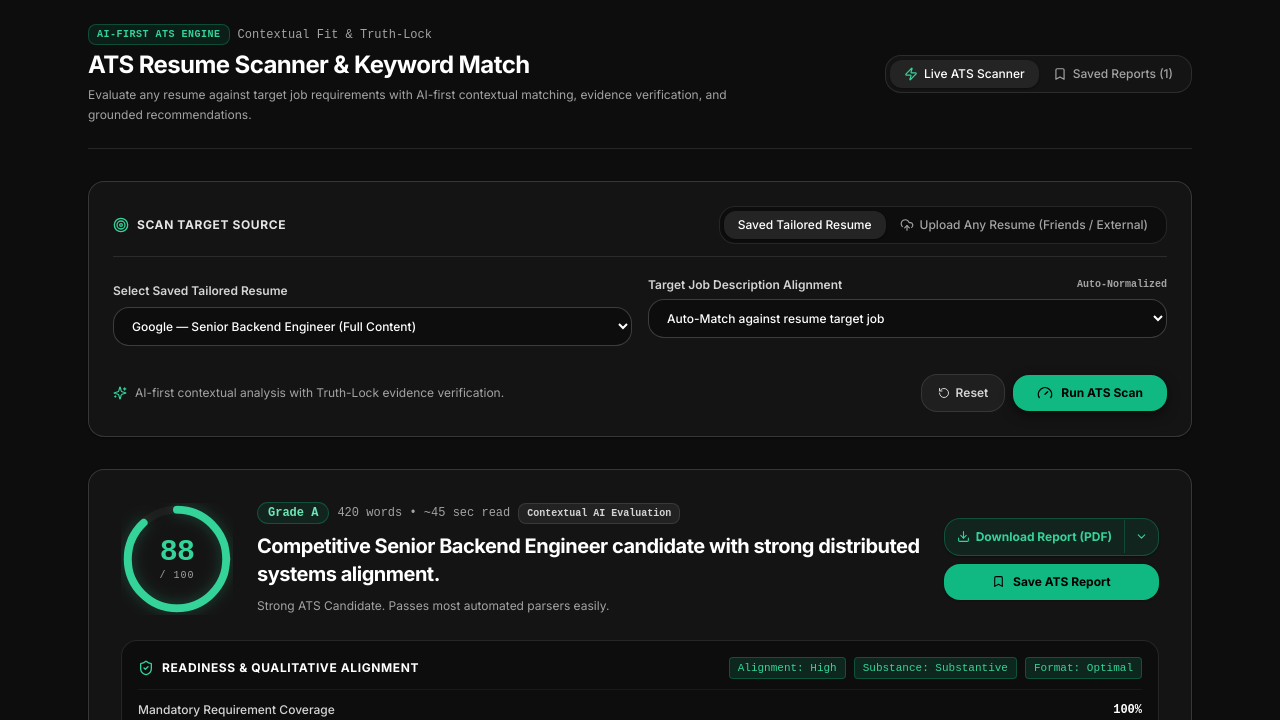
Scenario: ScannerPage ATS Evaluation Suite › executes ATS scan, displays hero score, and handles save report button
expect the text "88" is shown: met, box [160, 534, 194, 570]
expect the text "Grade A" is shown: met, box [257, 502, 329, 524]
Click the button "Save ATS Report": {"x": 1051, "y": 582} [944, 564, 1159, 600]
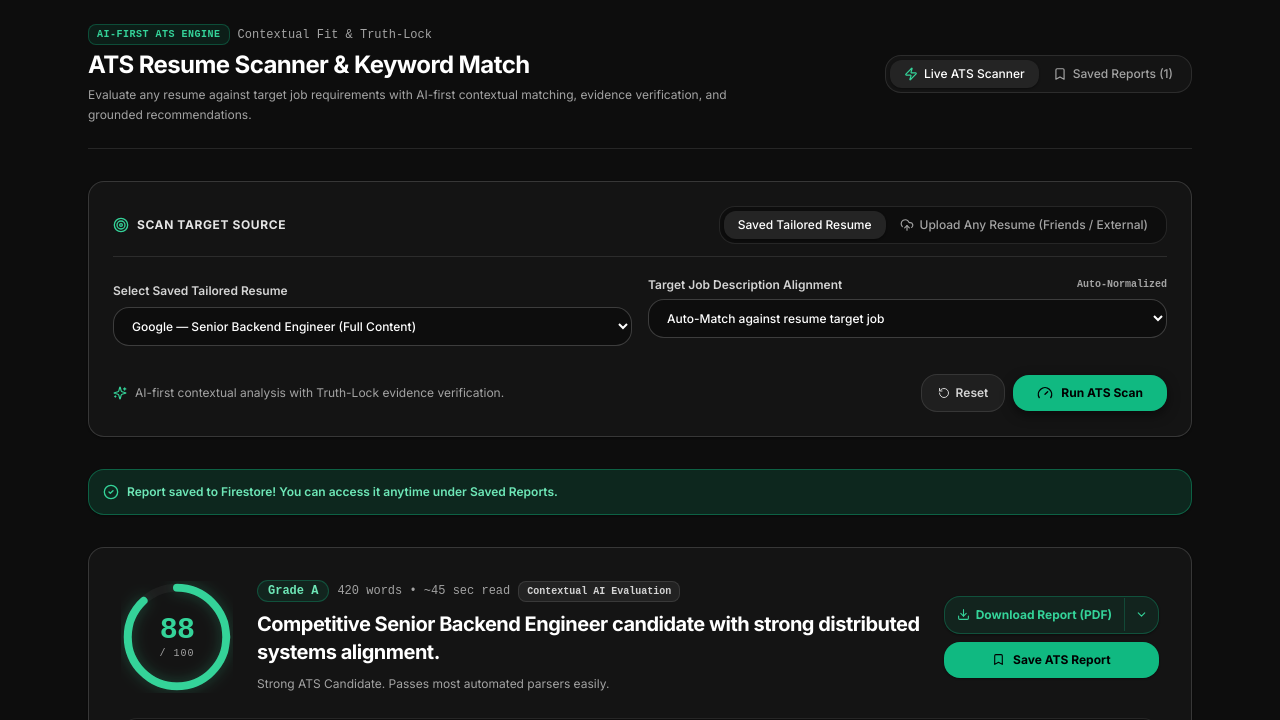
expect the text "Report saved to Firestore" is shown: met, box [127, 484, 558, 499]
